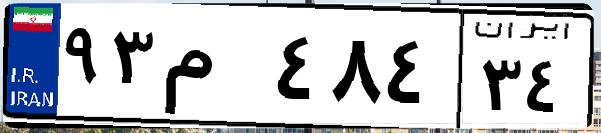3: (475, 38, 525, 113), (110, 28, 158, 98)
4: (270, 28, 330, 110), (385, 28, 445, 110), (525, 38, 570, 115)
8: (330, 28, 385, 110)
9: (57, 26, 110, 100)
م: (158, 20, 270, 120)
